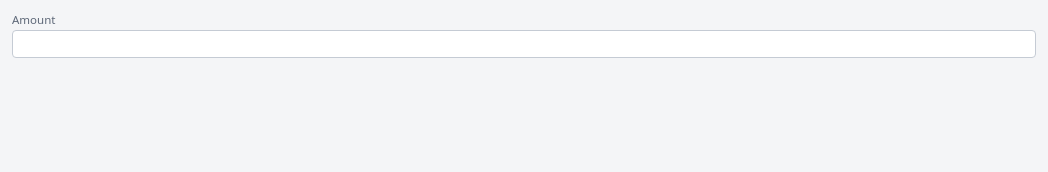
Test case: DecimalInput › keeps values as decimal strings and rejects invalid input
The image size is (1048, 172).
Later steps or results of the test are not shown.
In the field labelled "Amount": x=524, y=44 x1=12 y1=30 x2=1036 y2=58, type "0.1"
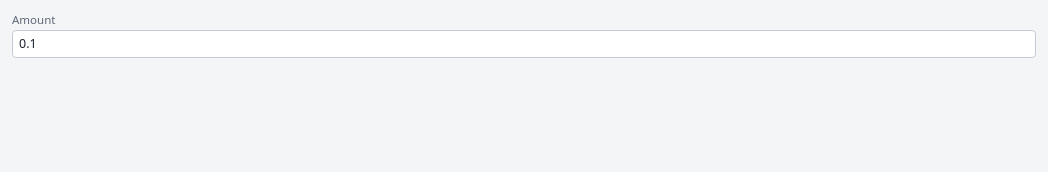
Replace the text in the field labelled "Amount" with "12abc": x=524, y=44 x1=12 y1=30 x2=1036 y2=58
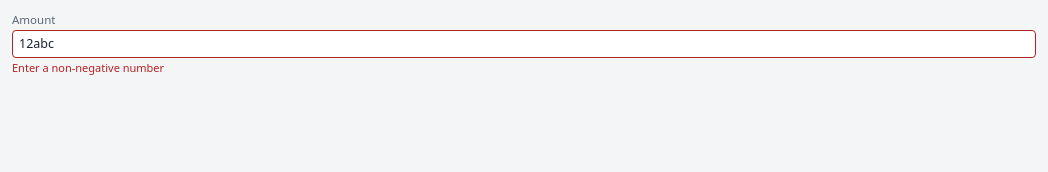
Expected: the text "Enter a non-negative number" is shown, x1=12 y1=60 x2=164 y2=75
